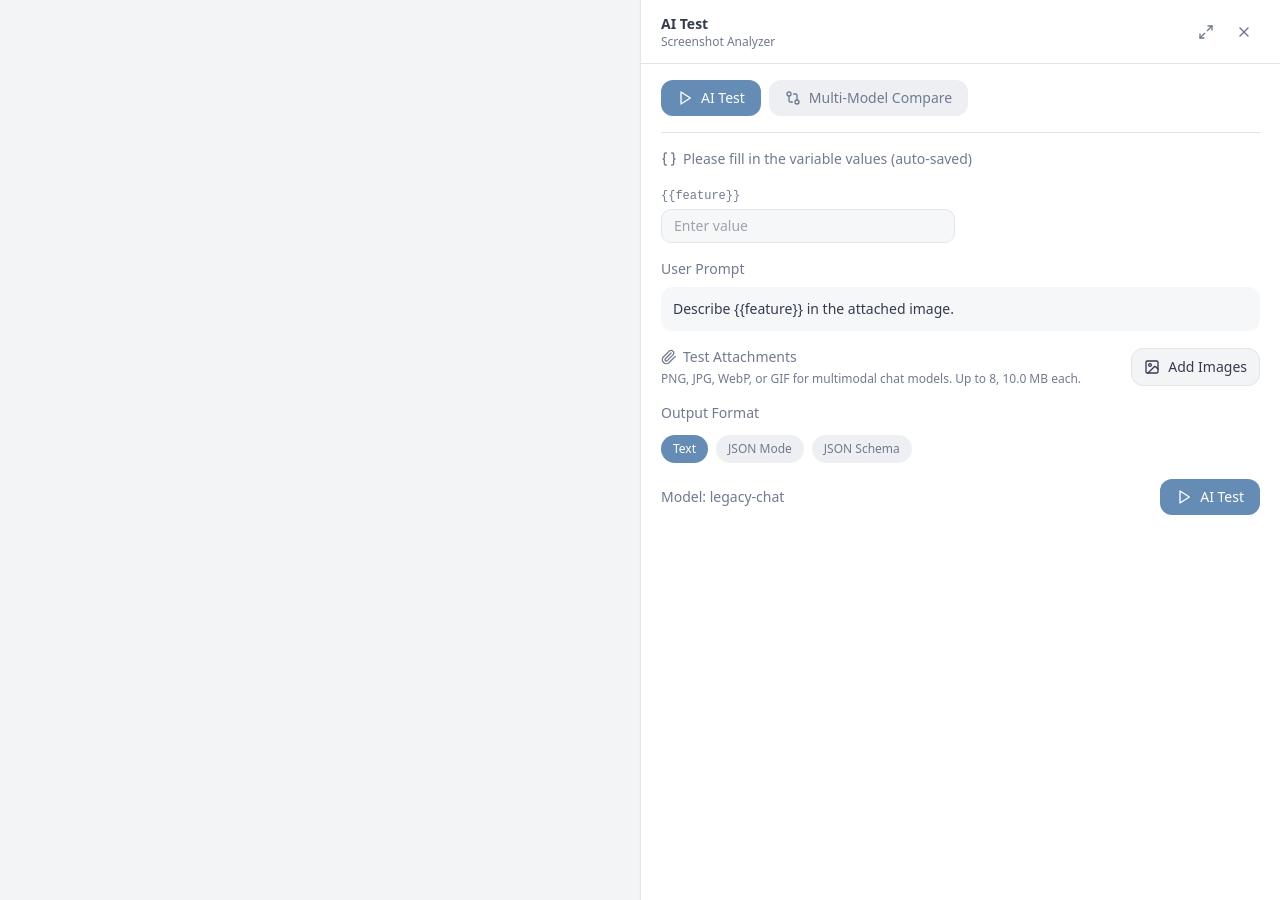
it: AiTestModal workbench › renders unsafe AI response markdown links as text
The width and height of the screenshot is (1280, 900).
Click the button "AI Test" in the row of "legacy-chat". click: (1210, 497)
box: x1=1160 y1=479 x2=1260 y2=515
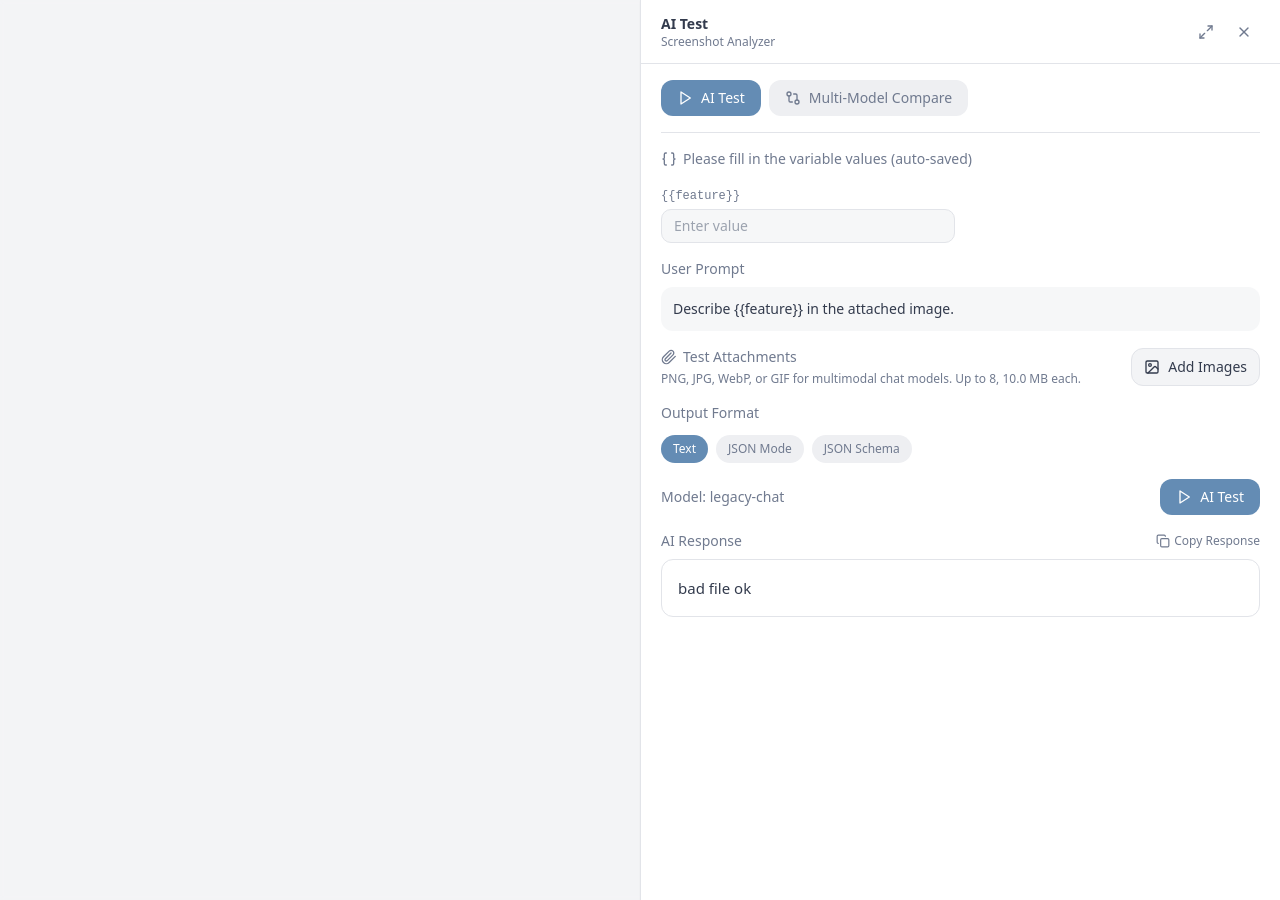
Result: the text "bad" is shown at x1=678 y1=578 x2=705 y2=598
